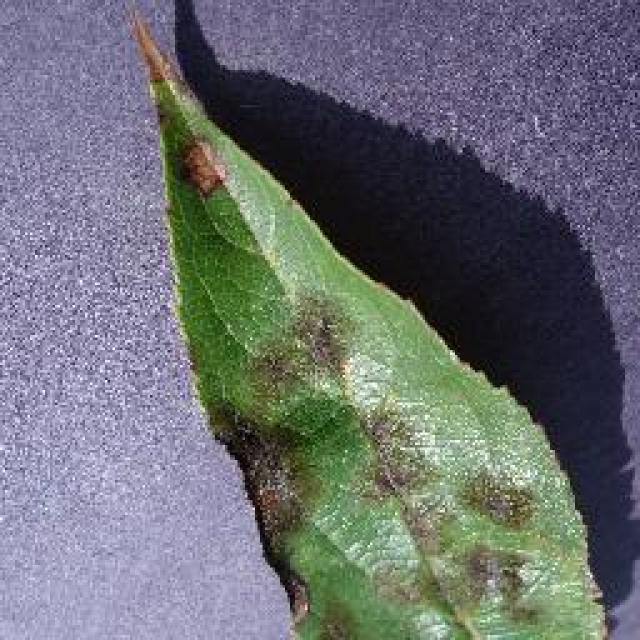apple scab disease: (120, 0, 622, 638)
